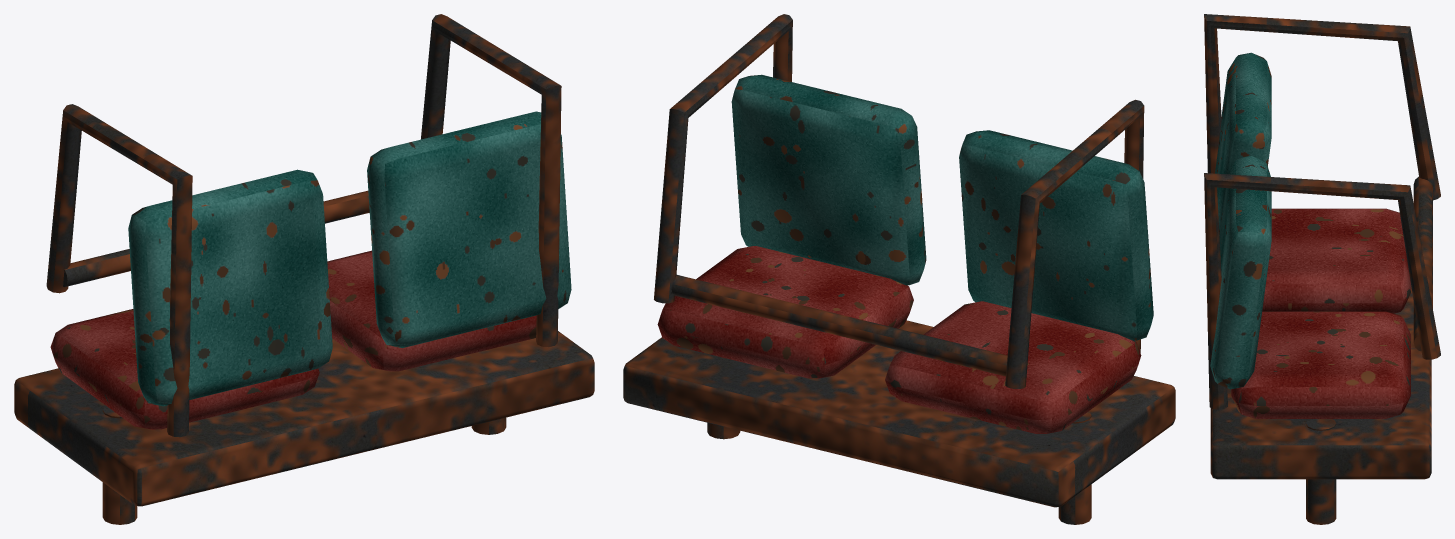
The model's file is SM_retired_ride_bench_bb9121368b.fbx.
3 renders of one model, left to right at view 1: azimuth 30°, elevation 25°; view 2: azimuth 150°, elevation 25°; view 3: azimuth 270°, elevation 25°, orthographic. The views are drawn at different scales.
Parts seen in each view (by area): view 1: SM_retired_ride_bench_bb9121368b; view 2: SM_retired_ride_bench_bb9121368b; view 3: SM_retired_ride_bench_bb9121368b.
Boxes of the visible parts, box(x1,y1,x2,y2) form: SM_retired_ride_bench_bb9121368b: box(14, 14, 594, 524); SM_retired_ride_bench_bb9121368b: box(623, 14, 1175, 524); SM_retired_ride_bench_bb9121368b: box(1204, 14, 1440, 524).
Size of what is drawn, in the model's own units: 170 by 85.6 by 137.
3 materials, 3 textured.
